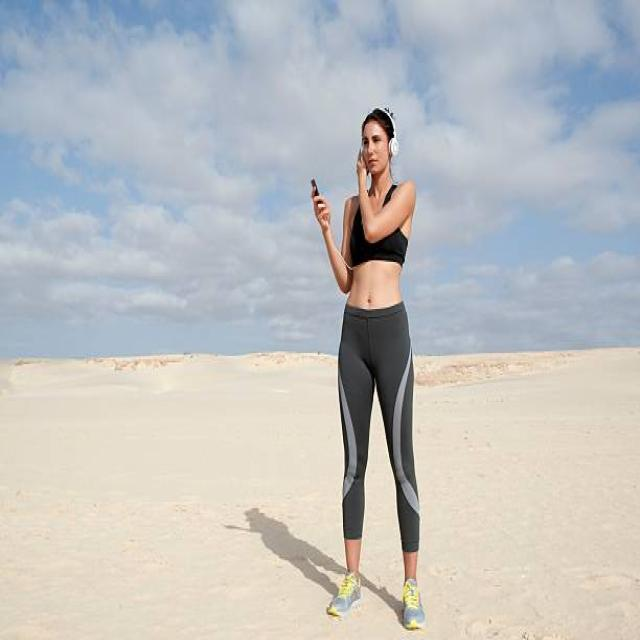Headphone: (360, 106, 399, 156)
